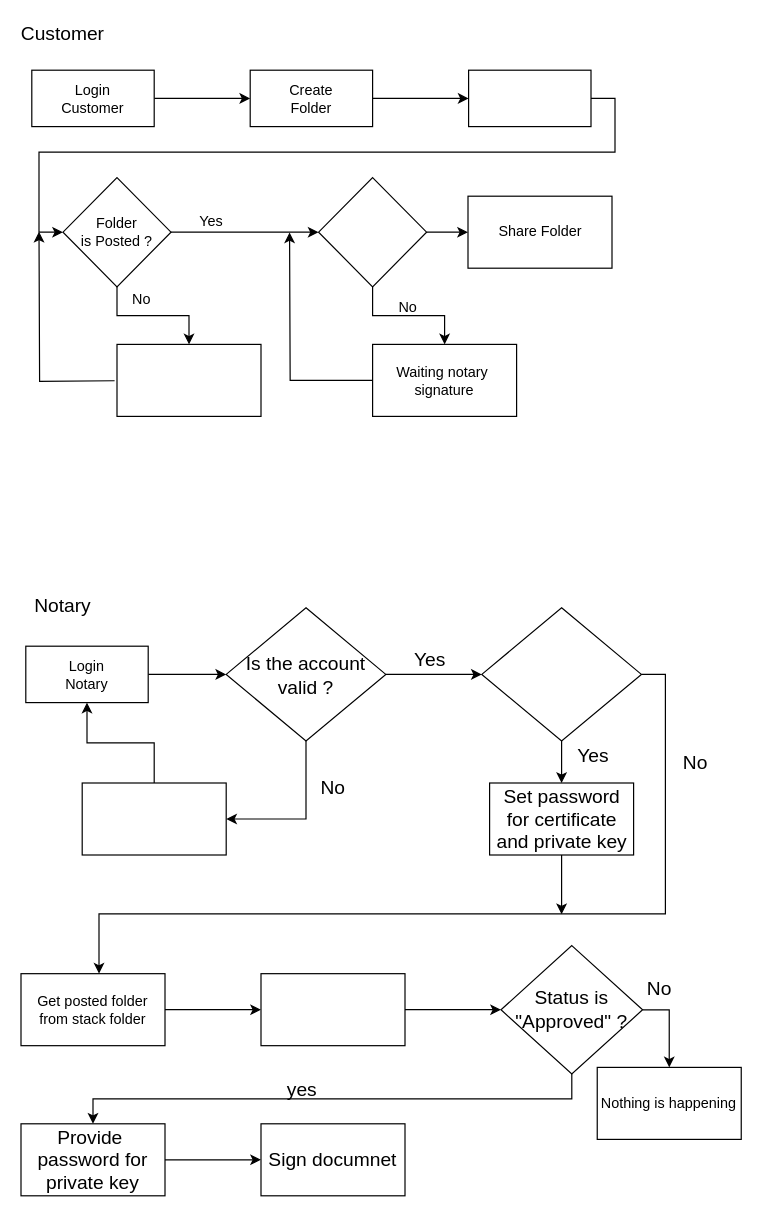
The diagram is 763 pixels wide and 1217 high, and some of its shapes have lost their labels. Each missing label, with the centre of its shape:
"Add Documents" belongs at point 529,98.
"Awaiting validation from admin" belongs at point 153,818.
"Checks each document and assigns a status to each one" belongs at point 332,1009.
"Folder is Valid ?" belongs at point 372,231.
"It's the first login ?" belongs at point 561,674.
"Post and add to stack folder" belongs at point 188,379.
